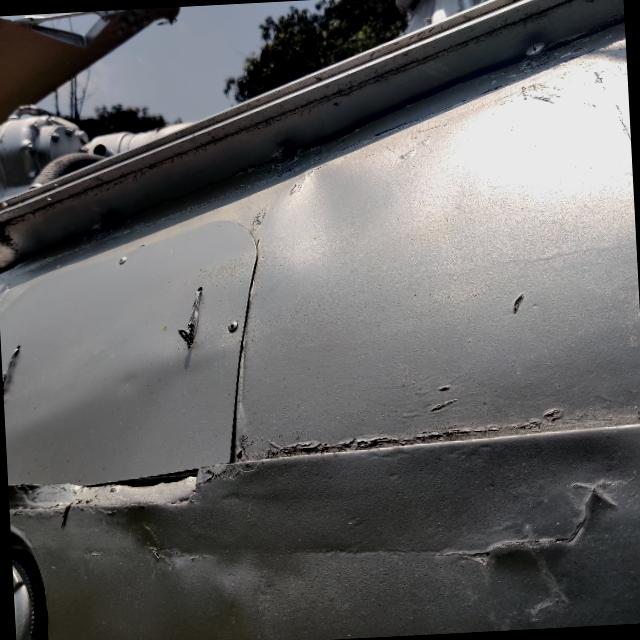dent: (264, 139, 393, 284)
